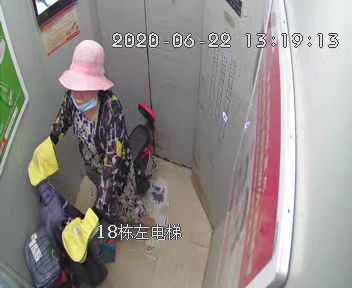Electric-bicycle: (28, 105, 155, 282)
